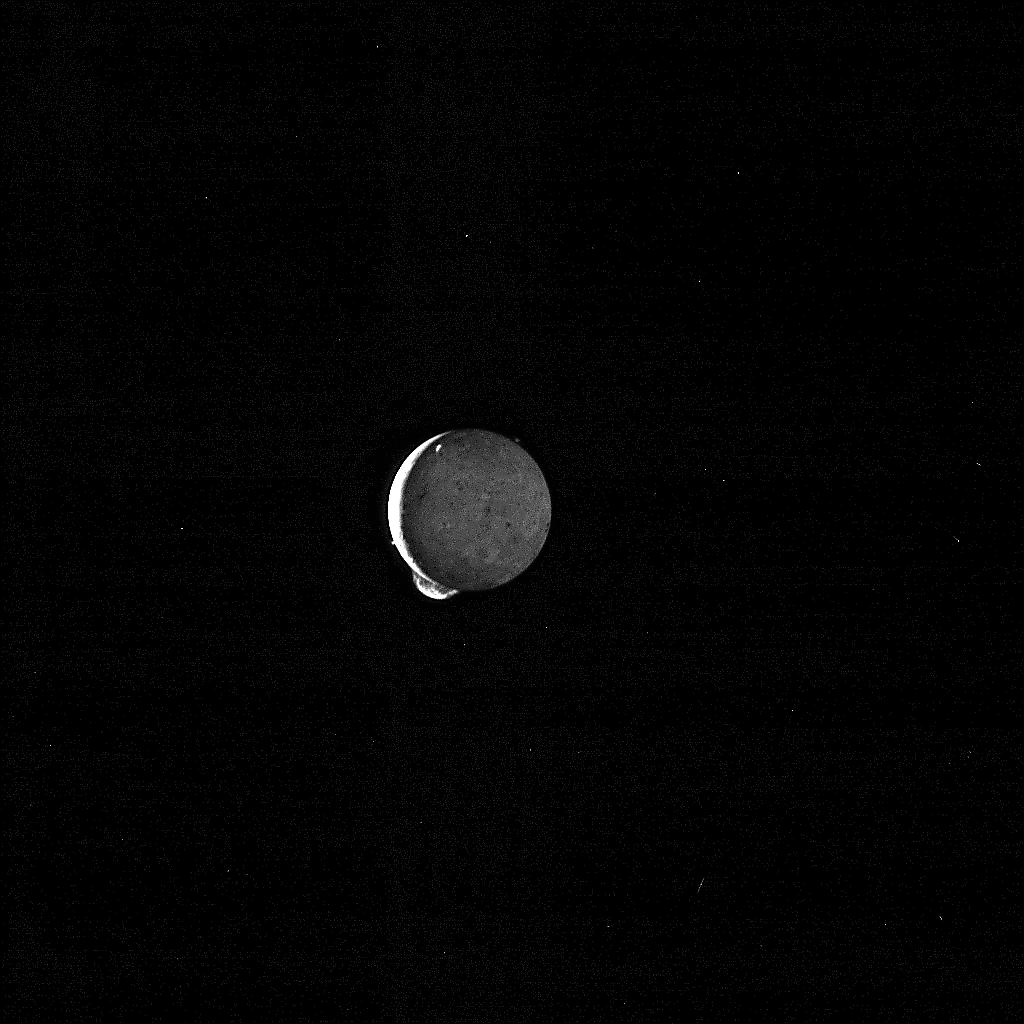plumes: (411, 566, 458, 602), (388, 538, 398, 548), (512, 434, 522, 444)
